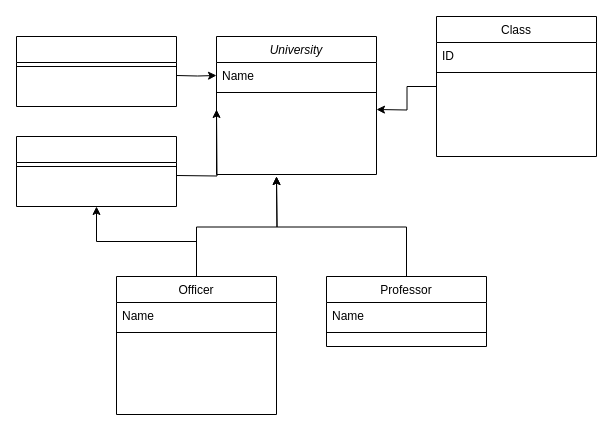
Image size: 613x431. Some labels were removed from this diagram. The centre of each missing label's shape, as x and y in pixels:
"Department" belongs at pixel 96 71.
"Office" belongs at pixel 96 171.
